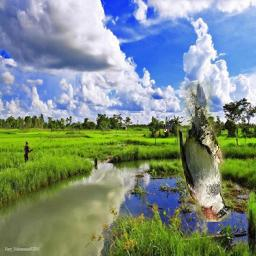Sparrow: (177, 82, 231, 223)
Woodpecker: (163, 120, 176, 132)
